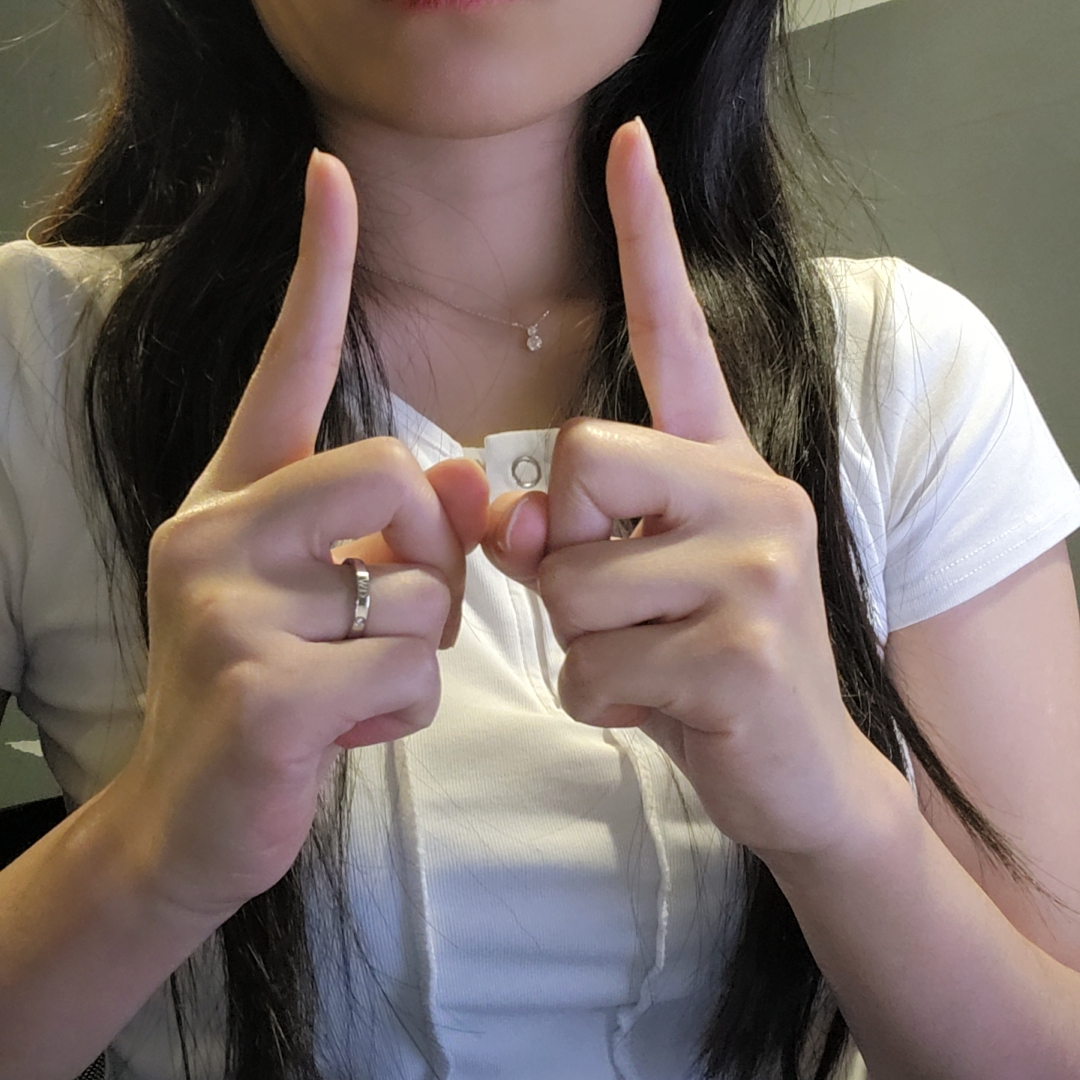meet: (140, 114, 854, 894)
